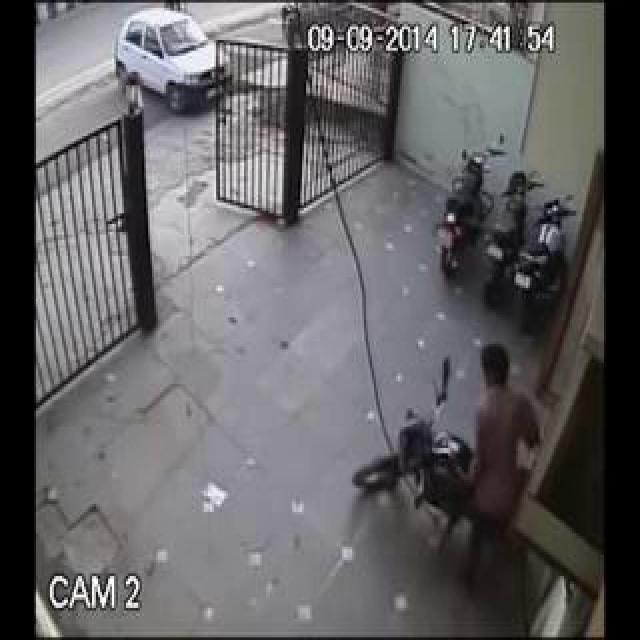stealing: (315, 263, 552, 633)
